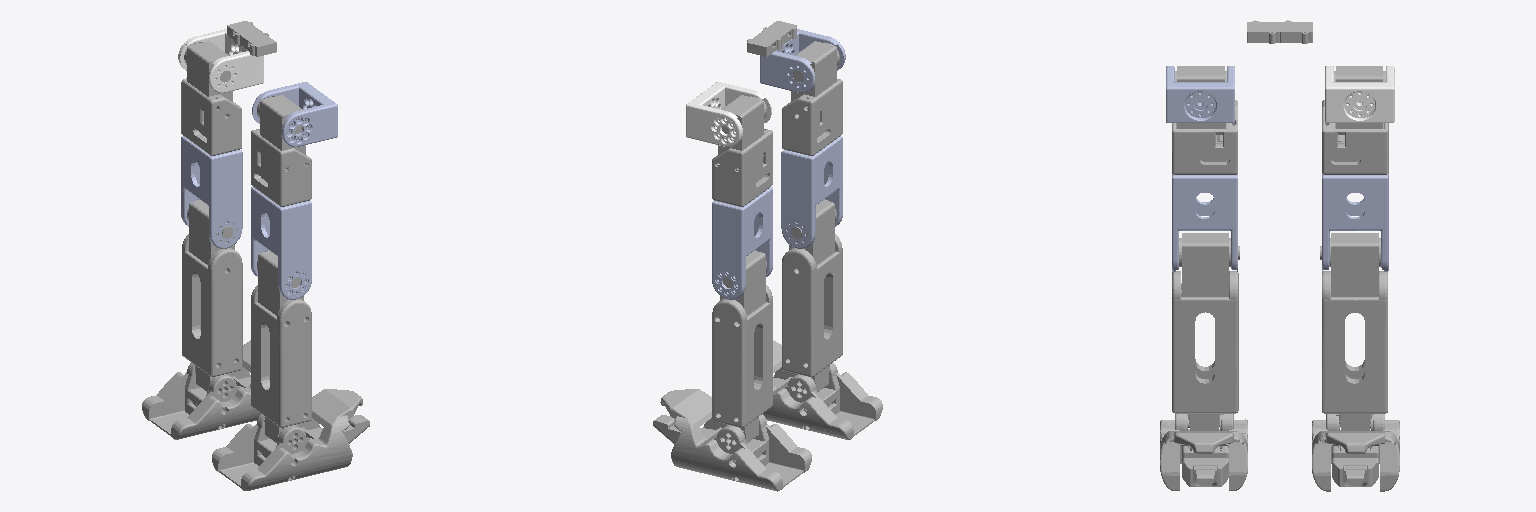
URDF robot description (OFFICIALdesign):
<?xml version="1.0" encoding="utf-8"?>
<!-- This URDF was automatically created by SolidWorks to URDF Exporter! Originally created by Stephen Brawner (brawner@gmail.com) 
     Commit Version: 1.6.0-4-g7f85cfe  Build Version: 1.6.7995.38578
     For more information, please see http://wiki.ros.org/sw_urdf_exporter -->
<robot
  name="OFFICIALdesign">
  <link
    name="Baselink">
    <inertial>
      <origin
        xyz="0.0082215 0.00023994 0.03258"
        rpy="0 0 0" />
      <mass
        value="2.067" />
      <inertia
        ixx="0.0031787"
        ixy="-4.4761E-06"
        ixz="-6.5814E-06"
        iyy="0.0041733"
        iyz="-1.1179E-05"
        izz="0.0060585" />
    </inertial>
    <visual>
      <origin
        xyz="0 0 0"
        rpy="0 0 0" />
      <geometry>
        <mesh
          filename="package://OFFICIALdesign/meshes/Baselink.STL" />
      </geometry>
      <material
        name="">
        <color
          rgba="0.79216 0.81961 0.93333 1" />
      </material>
    </visual>
    <collision>
      <origin
        xyz="0 0 0"
        rpy="0 0 0" />
      <geometry>
        <mesh
          filename="package://OFFICIALdesign/meshes/Baselink.STL" />
      </geometry>
    </collision>
  </link>
  <link
    name="IMUleft">
    <inertial>
      <origin
        xyz="0.00019368 5.8166E-06 -0.0020684"
        rpy="0 0 0" />
      <mass
        value="0.0068995" />
      <inertia
        ixx="7.674E-07"
        ixy="-4.6556E-08"
        ixz="-4.4413E-09"
        iyy="5.2116E-07"
        iyz="-5.0006E-15"
        izz="1.2014E-06" />
    </inertial>
    <visual>
      <origin
        xyz="0 0 0"
        rpy="0 0 0" />
      <geometry>
        <mesh
          filename="package://OFFICIALdesign/meshes/IMUleft.STL" />
      </geometry>
      <material
        name="">
        <color
          rgba="0.75294 0.75294 0.75294 1" />
      </material>
    </visual>
    <collision>
      <origin
        xyz="0 0 0"
        rpy="0 0 0" />
      <geometry>
        <mesh
          filename="package://OFFICIALdesign/meshes/IMUleft.STL" />
      </geometry>
    </collision>
  </link>
  <joint
    name="IMUleft_joint"
    type="fixed">
    <origin
      xyz="0 -0.0165 0.08675"
      rpy="0 0 0" />
    <parent
      link="Baselink" />
    <child
      link="IMUleft" />
    <axis
      xyz="0 0 0" />
  </joint>
  <link
    name="IMUright">
    <inertial>
      <origin
        xyz="0.00019368 5.8166E-06 -0.0020684"
        rpy="0 0 0" />
      <mass
        value="0.0068995" />
      <inertia
        ixx="7.674E-07"
        ixy="-4.6556E-08"
        ixz="-4.4413E-09"
        iyy="5.2116E-07"
        iyz="-5.0006E-15"
        izz="1.2014E-06" />
    </inertial>
    <visual>
      <origin
        xyz="0 0 0"
        rpy="0 0 0" />
      <geometry>
        <mesh
          filename="package://OFFICIALdesign/meshes/IMUright.STL" />
      </geometry>
      <material
        name="">
        <color
          rgba="0.75294 0.75294 0.75294 1" />
      </material>
    </visual>
    <collision>
      <origin
        xyz="0 0 0"
        rpy="0 0 0" />
      <geometry>
        <mesh
          filename="package://OFFICIALdesign/meshes/IMUright.STL" />
      </geometry>
    </collision>
  </link>
  <joint
    name="IMUright_joint"
    type="fixed">
    <origin
      xyz="0 0.0165 0.08675"
      rpy="0 0 0" />
    <parent
      link="Baselink" />
    <child
      link="IMUright" />
    <axis
      xyz="0 0 0" />
  </joint>
  <link
    name="Bubleft">
    <inertial>
      <origin
        xyz="-0.016954 -0.00071075 1.8179E-08"
        rpy="0 0 0" />
      <mass
        value="0.058815" />
      <inertia
        ixx="4.8553E-05"
        ixy="-1.4853E-06"
        ixz="1.7522E-11"
        iyy="2.4682E-05"
        iyz="-1.5005E-11"
        izz="5.5946E-05" />
    </inertial>
    <visual>
      <origin
        xyz="0 0 0"
        rpy="0 0 0" />
      <geometry>
        <mesh
          filename="package://OFFICIALdesign/meshes/Bubleft.STL" />
      </geometry>
      <material
        name="">
        <color
          rgba="0.79216 0.81961 0.93333 1" />
      </material>
    </visual>
    <collision>
      <origin
        xyz="0 0 0"
        rpy="0 0 0" />
      <geometry>
        <mesh
          filename="package://OFFICIALdesign/meshes/Bubleft.STL" />
      </geometry>
    </collision>
  </link>
  <joint
    name="Bubleft_joint"
    type="revolute">
    <origin
      xyz="0.04025 -0.07995 0.0229"
      rpy="0 0 0" />
    <parent
      link="Baselink" />
    <child
      link="Bubleft" />
    <axis
      xyz="-1 0 0" />
    <limit
      lower="-3.1416"
      upper="3.1416"
      effort="10"
      velocity="1" />
  </joint>
  <link
    name="Hipleft">
    <inertial>
      <origin
        xyz="-0.00042050534546903 0.00251976943574571 -0.0421972616591183"
        rpy="0 0 0" />
      <mass
        value="0.226261634433227" />
      <inertia
        ixx="0.000137472901154741"
        ixy="4.88881585039163E-07"
        ixz="3.11903803638425E-06"
        iyy="8.86233207220476E-05"
        iyz="-7.23481904337155E-06"
        izz="9.77025986114853E-05" />
    </inertial>
    <visual>
      <origin
        xyz="0 0 0"
        rpy="0 0 0" />
      <geometry>
        <mesh
          filename="package://OFFICIALdesign/meshes/Hipleft.STL" />
      </geometry>
      <material
        name="">
        <color
          rgba="0.752941176470588 0.752941176470588 0.752941176470588 1" />
      </material>
    </visual>
    <collision>
      <origin
        xyz="0 0 0"
        rpy="0 0 0" />
      <geometry>
        <mesh
          filename="package://OFFICIALdesign/meshes/Hipleft.STL" />
      </geometry>
    </collision>
  </link>
  <joint
    name="Hipleft_joint"
    type="revolute">
    <origin
      xyz="-0.04695 0.0003 0"
      rpy="0 0 0" />
    <parent
      link="Bubleft" />
    <child
      link="Hipleft" />
    <axis
      xyz="0 -1 0" />
    <limit
      lower="-3.1416"
      upper="3.1416"
      effort="10"
      velocity="1" />
  </joint>
  <link
    name="Rotate_left">
    <inertial>
      <origin
        xyz="-0.00397214684050922 -1.07075881772278E-08 -0.0346181318611727"
        rpy="0 0 0" />
      <mass
        value="0.0860125684597943" />
      <inertia
        ixx="8.11471763830618E-05"
        ixy="1.42661208688669E-11"
        ixz="2.909549419978E-06"
        iyy="0.000122098911317256"
        iyz="-7.29973826681633E-12"
        izz="7.28979465570447E-05" />
    </inertial>
    <visual>
      <origin
        xyz="0 0 0"
        rpy="0 0 0" />
      <geometry>
        <mesh
          filename="package://OFFICIALdesign/meshes/Rotate_left.STL" />
      </geometry>
      <material
        name="">
        <color
          rgba="0.792156862745098 0.819607843137255 0.933333333333333 1" />
      </material>
    </visual>
    <collision>
      <origin
        xyz="0 0 0"
        rpy="0 0 0" />
      <geometry>
        <mesh
          filename="package://OFFICIALdesign/meshes/Rotate_left.STL" />
      </geometry>
    </collision>
  </link>
  <joint
    name="Nhat_rotate_left"
    type="revolute">
    <origin
      xyz="0.0001 -0.0003 -0.0961"
      rpy="0 0 -1.5708" />
    <parent
      link="Hipleft" />
    <child
      link="Rotate_left" />
    <axis
      xyz="0 0 -1" />
    <limit
      lower="-3.1416"
      upper="3.1416"
      effort="10"
      velocity="1" />
  </joint>
  <link
    name="Kneeleft">
    <inertial>
      <origin
        xyz="-9.08258383547356E-05 1.99778137468694E-05 -0.0847933198514295"
        rpy="0 0 0" />
      <mass
        value="0.337603079528131" />
      <inertia
        ixx="0.000508808740234489"
        ixy="1.03103484421995E-10"
        ixz="1.15563500572743E-12"
        iyy="0.000412477240127418"
        iyz="-1.12130457825437E-06"
        izz="0.000183834468316713" />
    </inertial>
    <visual>
      <origin
        xyz="0 0 0"
        rpy="0 0 0" />
      <geometry>
        <mesh
          filename="package://OFFICIALdesign/meshes/Kneeleft.STL" />
      </geometry>
      <material
        name="">
        <color
          rgba="0.752941176470588 0.752941176470588 0.752941176470588 1" />
      </material>
    </visual>
    <collision>
      <origin
        xyz="0 0 0"
        rpy="0 0 0" />
      <geometry>
        <mesh
          filename="package://OFFICIALdesign/meshes/Kneeleft.STL" />
      </geometry>
    </collision>
  </link>
  <joint
    name="Kneeleft_joint"
    type="revolute">
    <origin
      xyz="-0.0048 0 -0.089"
      rpy="0 0 1.5708" />
    <parent
      link="Rotate_left" />
    <child
      link="Kneeleft" />
    <axis
      xyz="0 -1 0" />
    <limit
      lower="-3.1416"
      upper="3.1416"
      effort="10"
      velocity="1" />
  </joint>
  <link
    name="Footleft">
    <inertial>
      <origin
        xyz="0.0204752573334279 -0.000825816126645902 -0.0206836240556369"
        rpy="0 0 0" />
      <mass
        value="0.302532647572717" />
      <inertia
        ixx="0.00028096802024488"
        ixy="-4.3577325325921E-07"
        ixz="-8.53656507453921E-05"
        iyy="0.000401765460292781"
        iyz="-1.03951575290961E-08"
        izz="0.000530752971115216" />
    </inertial>
    <visual>
      <origin
        xyz="0 0 0"
        rpy="0 0 0" />
      <geometry>
        <mesh
          filename="package://OFFICIALdesign/meshes/Footleft.STL" />
      </geometry>
      <material
        name="">
        <color
          rgba="0.752941176470588 0.752941176470588 0.752941176470588 1" />
      </material>
    </visual>
    <collision>
      <origin
        xyz="0 0 0"
        rpy="0 0 0" />
      <geometry>
        <mesh
          filename="package://OFFICIALdesign/meshes/Footleft.STL" />
      </geometry>
    </collision>
  </link>
  <joint
    name="Footleft_joint"
    type="revolute">
    <origin
      xyz="-0.00030248 0 -0.19"
      rpy="0 0 0" />
    <parent
      link="Kneeleft" />
    <child
      link="Footleft" />
    <axis
      xyz="0 -1 0" />
    <limit
      lower="-3.1416"
      upper="3.1416"
      effort="10"
      velocity="1" />
  </joint>
  <link
    name="Bubright">
    <inertial>
      <origin
        xyz="0 0 0"
        rpy="0 0 0" />
      <mass
        value="0" />
      <inertia
        ixx="0"
        ixy="0"
        ixz="0"
        iyy="0"
        iyz="0"
        izz="0" />
    </inertial>
    <visual>
      <origin
        xyz="0 0 0"
        rpy="0 0 0" />
      <geometry>
        <mesh
          filename="package://OFFICIALdesign/meshes/Bubright.STL" />
      </geometry>
      <material
        name="">
        <color
          rgba="1 1 1 1" />
      </material>
    </visual>
    <collision>
      <origin
        xyz="0 0 0"
        rpy="0 0 0" />
      <geometry>
        <mesh
          filename="package://OFFICIALdesign/meshes/Bubright.STL" />
      </geometry>
    </collision>
  </link>
  <joint
    name="Bubright_joint"
    type="revolute">
    <origin
      xyz="0.04025 0.07995 0.0229"
      rpy="0 0 0" />
    <parent
      link="Baselink" />
    <child
      link="Bubright" />
    <axis
      xyz="-1 0 0" />
    <limit
      lower="-3.1416"
      upper="3.1416"
      effort="10"
      velocity="1" />
  </joint>
  <link
    name="Hipright">
    <inertial>
      <origin
        xyz="-0.000420522477027452 -0.00251974263084985 -0.0421972390878883"
        rpy="0 0 0" />
      <mass
        value="0.226261152615433" />
      <inertia
        ixx="0.000137472724933561"
        ixy="-4.88795890676756E-07"
        ixz="3.11909131459648E-06"
        iyy="8.86233293968931E-05"
        iyz="7.23455158312807E-06"
        izz="9.77024271628414E-05" />
    </inertial>
    <visual>
      <origin
        xyz="0 0 0"
        rpy="0 0 0" />
      <geometry>
        <mesh
          filename="package://OFFICIALdesign/meshes/Hipright.STL" />
      </geometry>
      <material
        name="">
        <color
          rgba="0.752941176470588 0.752941176470588 0.752941176470588 1" />
      </material>
    </visual>
    <collision>
      <origin
        xyz="0 0 0"
        rpy="0 0 0" />
      <geometry>
        <mesh
          filename="package://OFFICIALdesign/meshes/Hipright.STL" />
      </geometry>
    </collision>
  </link>
  <joint
    name="Hipright_joint"
    type="revolute">
    <origin
      xyz="-0.04695 -0.0003 0"
      rpy="0 0 0" />
    <parent
      link="Bubright" />
    <child
      link="Hipright" />
    <axis
      xyz="0 1 0" />
    <limit
      lower="-3.1416"
      upper="3.1416"
      effort="10"
      velocity="1" />
  </joint>
  <link
    name="Rotate_right">
    <inertial>
      <origin
        xyz="0.0039721475394216 1.01134075558562E-08 -0.0346181311327098"
        rpy="0 0 0" />
      <mass
        value="0.086012565451627" />
      <inertia
        ixx="8.11471741937286E-05"
        ixy="1.31909676869695E-11"
        ixz="-2.90954813510553E-06"
        iyy="0.000122098908774384"
        iyz="6.21911416300793E-12"
        izz="7.2897944395315E-05" />
    </inertial>
    <visual>
      <origin
        xyz="0 0 0"
        rpy="0 0 0" />
      <geometry>
        <mesh
          filename="package://OFFICIALdesign/meshes/Rotate_right.STL" />
      </geometry>
      <material
        name="">
        <color
          rgba="0.792156862745098 0.819607843137255 0.933333333333333 1" />
      </material>
    </visual>
    <collision>
      <origin
        xyz="0 0 0"
        rpy="0 0 0" />
      <geometry>
        <mesh
          filename="package://OFFICIALdesign/meshes/Rotate_right.STL" />
      </geometry>
    </collision>
  </link>
  <joint
    name="rotate_right"
    type="revolute">
    <origin
      xyz="0.0001 0.0003 -0.0961"
      rpy="0 0 -1.5708" />
    <parent
      link="Hipright" />
    <child
      link="Rotate_right" />
    <axis
      xyz="0 0 -1" />
    <limit
      lower="-3.1416"
      upper="3.1416"
      effort="10"
      velocity="1" />
  </joint>
  <link
    name="Kneeright">
    <inertial>
      <origin
        xyz="9.08258383548743E-05 -7.36131691415343E-05 -0.0847933198514307"
        rpy="0 0 0" />
      <mass
        value="0.337603079528131" />
      <inertia
        ixx="0.00050880874023449"
        ixy="1.0310348438375E-10"
        ixz="-1.15563535459029E-12"
        iyy="0.000412477240127419"
        iyz="1.12130457825444E-06"
        izz="0.000183834468316713" />
    </inertial>
    <visual>
      <origin
        xyz="0 0 0"
        rpy="0 0 0" />
      <geometry>
        <mesh
          filename="package://OFFICIALdesign/meshes/Kneeright.STL" />
      </geometry>
      <material
        name="">
        <color
          rgba="0.752941176470588 0.752941176470588 0.752941176470588 1" />
      </material>
    </visual>
    <collision>
      <origin
        xyz="0 0 0"
        rpy="0 0 0" />
      <geometry>
        <mesh
          filename="package://OFFICIALdesign/meshes/Kneeright.STL" />
      </geometry>
    </collision>
  </link>
  <joint
    name="Kneeright"
    type="revolute">
    <origin
      xyz="0.0051 0 -0.089"
      rpy="0 0 1.5708" />
    <parent
      link="Rotate_right" />
    <child
      link="Kneeright" />
    <axis
      xyz="0 1 0" />
    <limit
      lower="-3.1416"
      upper="3.1416"
      effort="10"
      velocity="1" />
  </joint>
  <link
    name="Footright">
    <inertial>
      <origin
        xyz="0.0204752566870622 0.000903111607598164 -0.0206265170133052"
        rpy="0 0 0" />
      <mass
        value="0.302532642445866" />
      <inertia
        ixx="0.000280968016846249"
        ixy="-4.35772788114269E-07"
        ixz="-8.53656460381612E-05"
        iyy="0.000401765448061683"
        iyz="-1.03945452354569E-08"
        izz="0.000530752960342006" />
    </inertial>
    <visual>
      <origin
        xyz="0 0 0"
        rpy="0 0 0" />
      <geometry>
        <mesh
          filename="package://OFFICIALdesign/meshes/Footright.STL" />
      </geometry>
      <material
        name="">
        <color
          rgba="0.752941176470588 0.752941176470588 0.752941176470588 1" />
      </material>
    </visual>
    <collision>
      <origin
        xyz="0 0 0"
        rpy="0 0 0" />
      <geometry>
        <mesh
          filename="package://OFFICIALdesign/meshes/Footright.STL" />
      </geometry>
    </collision>
  </link>
  <joint
    name="Footright_joint"
    type="revolute">
    <origin
      xyz="0.00029752 0 -0.19"
      rpy="0 0 0" />
    <parent
      link="Kneeright" />
    <child
      link="Footright" />
    <axis
      xyz="0 1 0" />
    <limit
      lower="-3.1416"
      upper="3.1416"
      effort="10"
      velocity="1" />
  </joint>
</robot>

--- What the picture shows (computed from the rendered views, not written in the file) ---
The picture shows the robot from 3 angles, left to right: view 1: azimuth 30°, elevation 25°; view 2: azimuth 150°, elevation 25°; view 3: azimuth 270°, elevation 25°; orthographic projection.
Model OFFICIALdesign with 13 links and 12 joints (10 revolute, 2 fixed), rooted at Baselink, posed every joint at zero.
Links seen in each view (by area): view 1: Kneeright, Kneeleft, Footleft, Footright, Hipright, Hipleft, Rotate_right, Rotate_left, Bubleft, Bubright, IMUleft; view 2: Kneeleft, Kneeright, Footright, Footleft, Hipleft, Hipright, Rotate_left, Rotate_right, Bubright, Bubleft, IMUright; view 3: Kneeleft, Kneeright, Footright, Footleft, Hipright, Hipleft, Rotate_right, Rotate_left, Bubright, Bubleft, IMUright, IMUleft.
Boxes of the visible links, left/top/right/bottom form: Kneeright: left=182, top=199, right=242, bottom=391; Kneeleft: left=251, top=250, right=311, bottom=442; Footleft: left=212, top=389, right=369, bottom=490; Footright: left=142, top=340, right=260, bottom=439; Hipright: left=181, top=41, right=241, bottom=155; Hipleft: left=251, top=95, right=311, bottom=206; Rotate_right: left=181, top=136, right=242, bottom=248; Rotate_left: left=251, top=187, right=311, bottom=299; Bubleft: left=252, top=82, right=337, bottom=146; Bubright: left=178, top=29, right=263, bottom=92; IMUleft: left=242, top=32, right=276, bottom=56; Kneeleft: left=782, top=199, right=842, bottom=391; Kneeright: left=712, top=250, right=772, bottom=442; Footright: left=653, top=389, right=811, bottom=491; Footleft: left=763, top=340, right=882, bottom=439; Hipleft: left=782, top=41, right=842, bottom=155; Hipright: left=712, top=95, right=772, bottom=206; Rotate_left: left=781, top=136, right=842, bottom=248; Rotate_right: left=712, top=187, right=772, bottom=299; Bubright: left=686, top=82, right=771, bottom=146; Bubleft: left=760, top=29, right=845, bottom=92; IMUright: left=747, top=32, right=781, bottom=56; Kneeleft: left=1172, top=233, right=1239, bottom=430; Kneeright: left=1320, top=233, right=1387, bottom=430; Footright: left=1312, top=414, right=1399, bottom=491; Footleft: left=1160, top=414, right=1247, bottom=490; Hipright: left=1322, top=66, right=1388, bottom=174; Hipleft: left=1172, top=66, right=1237, bottom=174; Rotate_right: left=1322, top=173, right=1388, bottom=271; Rotate_left: left=1172, top=174, right=1237, bottom=271; Bubright: left=1325, top=66, right=1394, bottom=122; Bubleft: left=1166, top=66, right=1234, bottom=122; IMUright: left=1280, top=20, right=1312, bottom=43; IMUleft: left=1247, top=20, right=1279, bottom=43.
Size in the robot's own frame: 0.1725 by 0.2413 by 0.4878 metres.
12 mesh visuals loaded from 13 distinct referenced files (12 binary STL); not drawn: 1 (reference not matched to a file when rendering).
